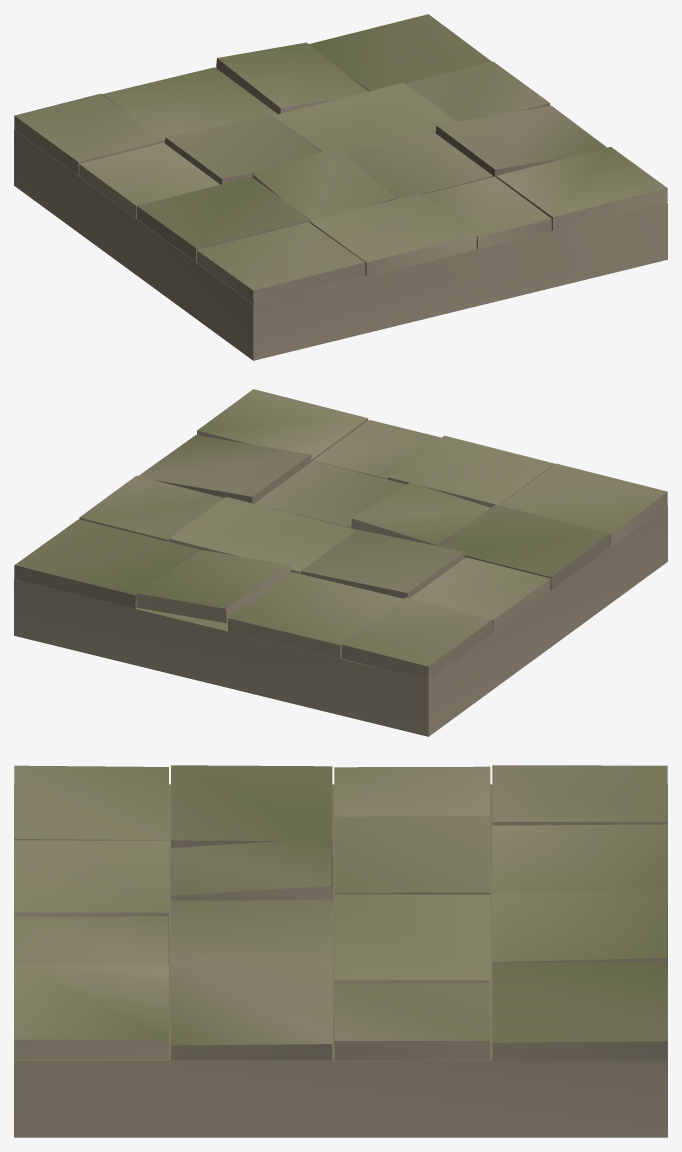
File: sanctuary_deck_mid.glb
The picture shows the model from 3 angles, top to bottom: view 1: azimuth 30°, elevation 25°; view 2: azimuth 150°, elevation 25°; view 3: azimuth 270°, elevation 25°; orthographic projection. The views are drawn at different scales.
Parts seen in each view (by area): view 1: sanctuary_deck_mid; view 2: sanctuary_deck_mid; view 3: sanctuary_deck_mid.
Boxes of the visible parts, x1,y1,x2,y2 form: sanctuary_deck_mid: (14,14,667,360); sanctuary_deck_mid: (14,389,667,736); sanctuary_deck_mid: (14,765,667,1137).
Size of the model in its own units: 18.47 by 3.39 by 18.46.
